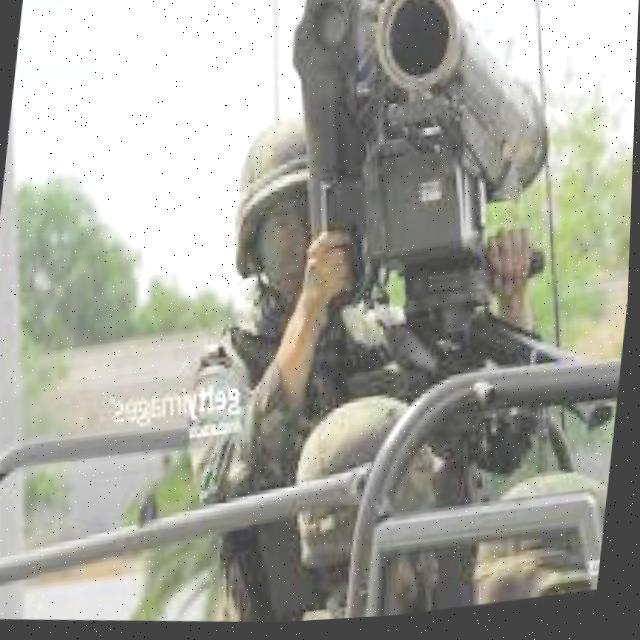rocket: (353, 0, 567, 222)
